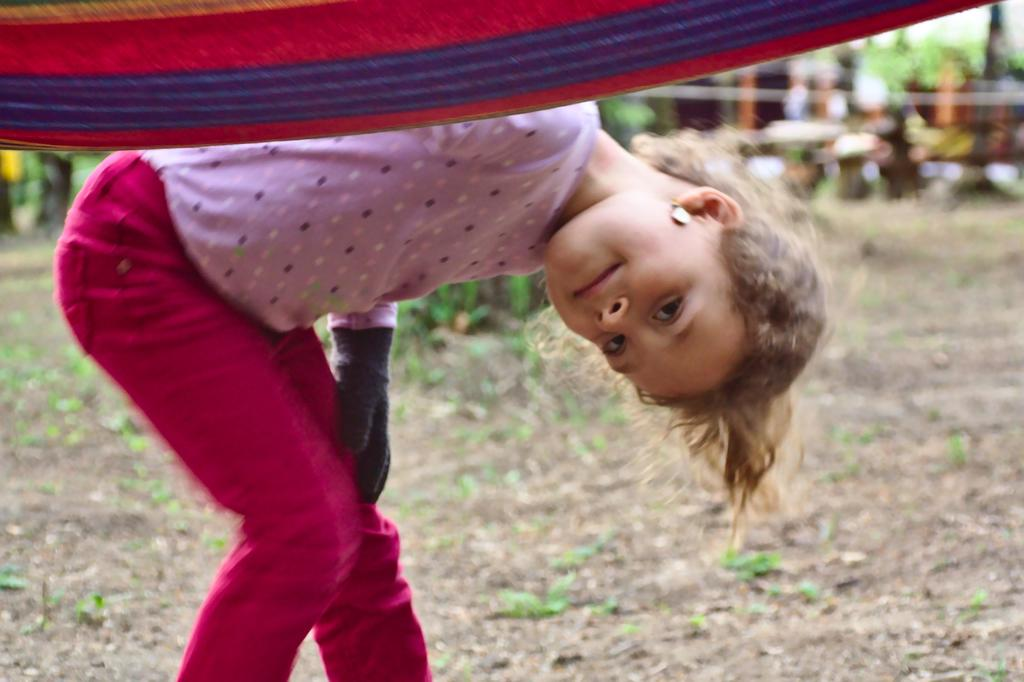Human-face: (532, 199, 762, 437)
